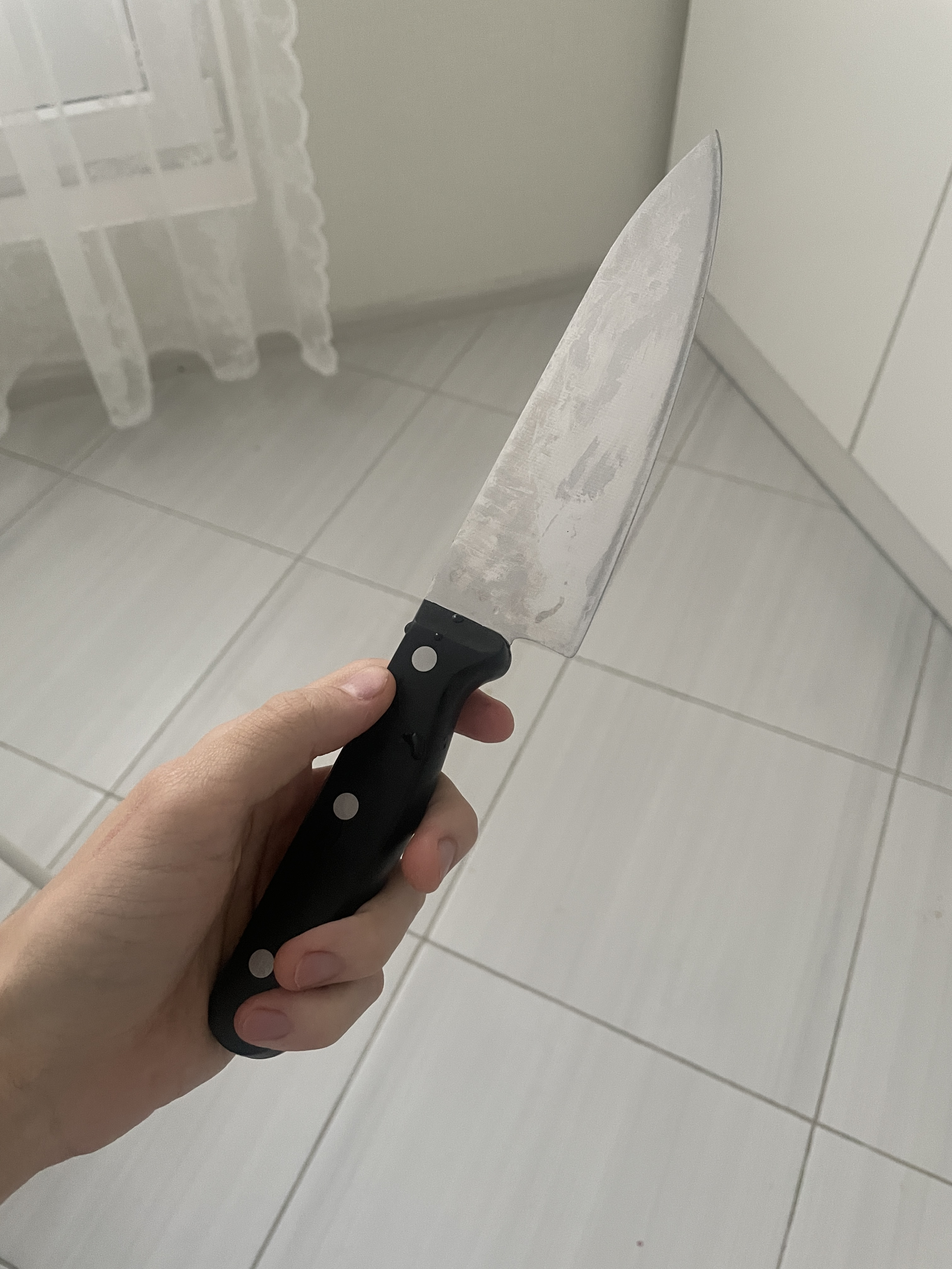knife: (209, 136, 721, 1058)
